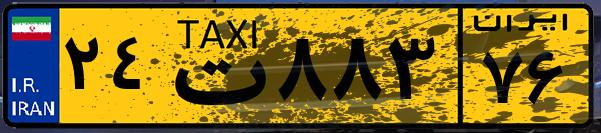2: (57, 26, 110, 100)
3: (385, 28, 445, 110)
4: (110, 28, 158, 98)
6: (525, 38, 570, 115)
7: (475, 38, 525, 113)
8: (270, 28, 330, 110), (330, 28, 385, 110)
ت: (158, 12, 270, 120)
